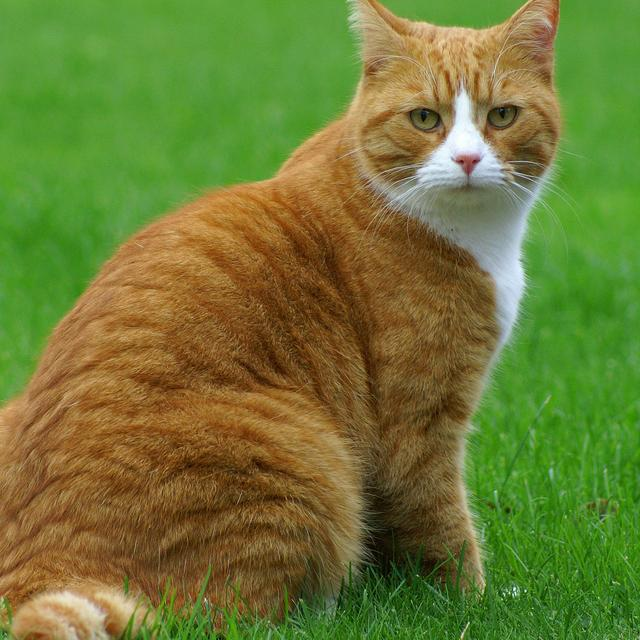animals: (351, 0, 555, 172)
